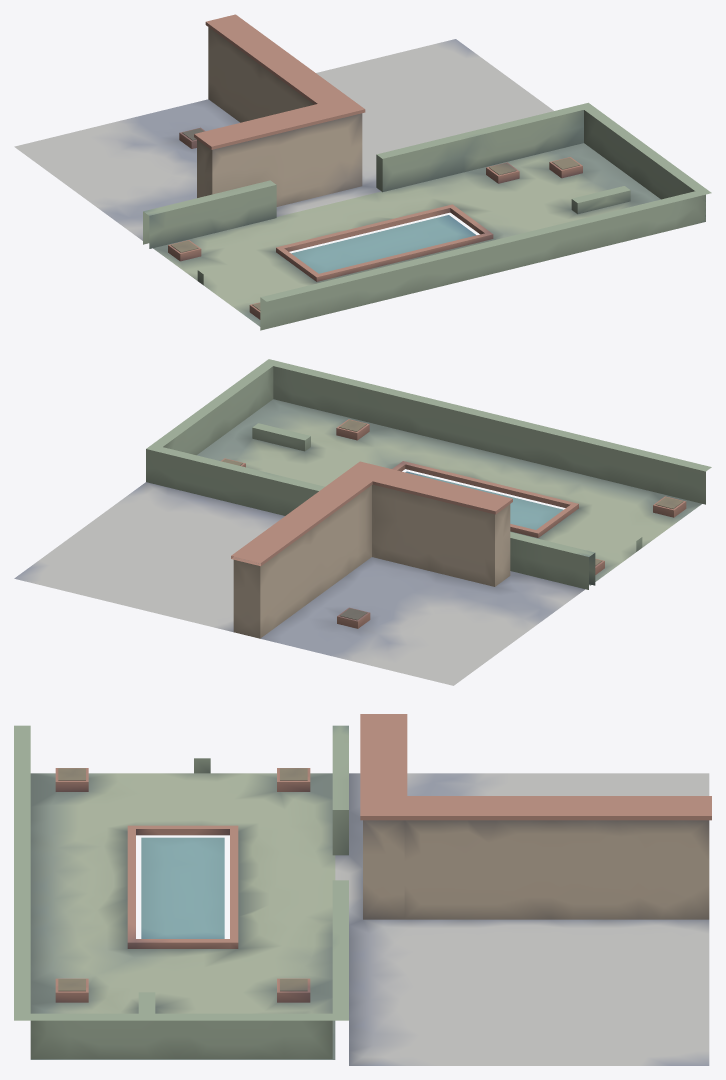
The picture shows the model from 3 angles, top to bottom: view 1: azimuth 30°, elevation 25°; view 2: azimuth 150°, elevation 25°; view 3: azimuth 270°, elevation 25°; orthographic projection. The views are drawn at different scales.
Parts seen in each view (by area): view 1: t; view 2: t; view 3: t.
Part boxes in pixels (x1,y1,x2,y2): t: [14, 14, 711, 330]; t: [14, 359, 711, 685]; t: [14, 714, 711, 1065].
Bounding box in the file's own units: 50.4 × 8.35 × 50.4.
